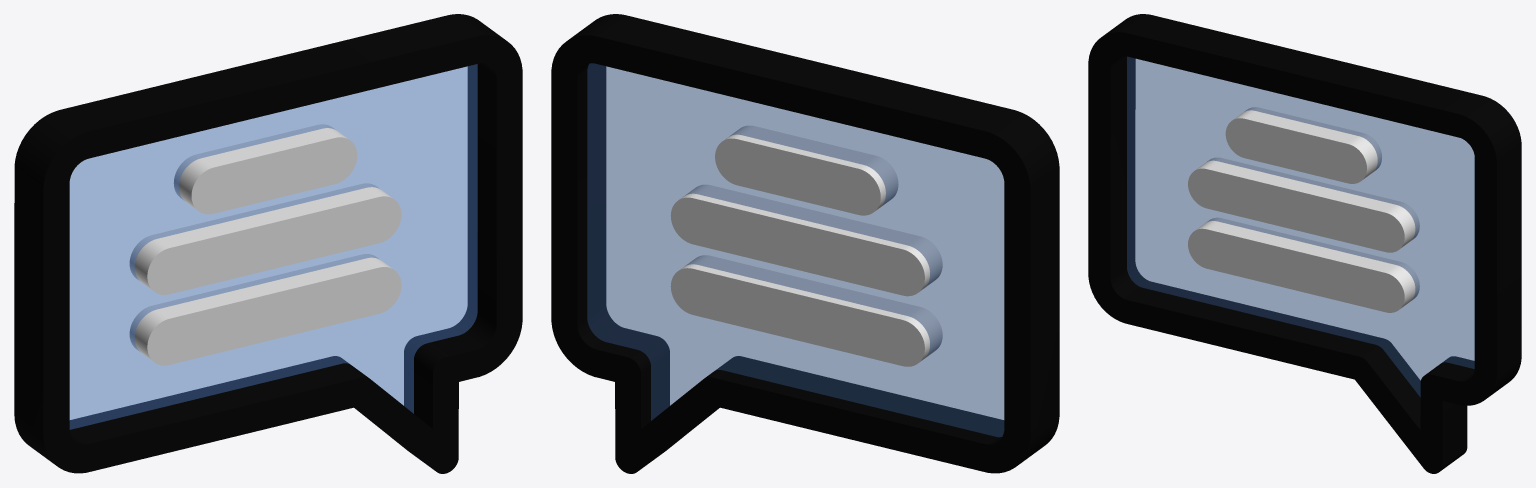
File: IconsIn3D_3.glb
3 renders of one model, left to right at view 1: azimuth 30°, elevation 25°; view 2: azimuth 150°, elevation 25°; view 3: azimuth 330°, elevation 25°, orthographic. The views are drawn at different scales.
Visible parts, largest first — view 1: CommentIcon3; view 2: CommentIcon3; view 3: CommentIcon3.
Boxes of the visible parts, box(x1,y1,x2,y2) form: CommentIcon3: box(14, 14, 522, 473); CommentIcon3: box(551, 14, 1059, 473); CommentIcon3: box(1088, 14, 1521, 473).
Bounding box in the file's own units: 0.6022 × 0.5159 × 0.0631.
